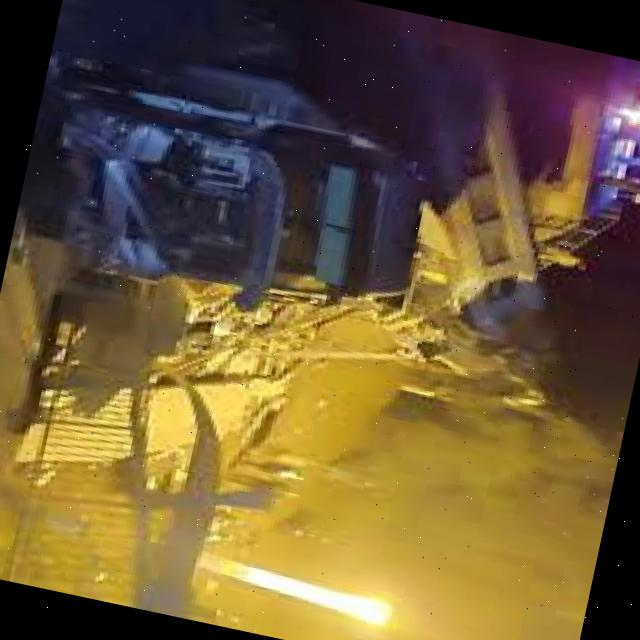bridge collapse: (54, 34, 638, 604)
